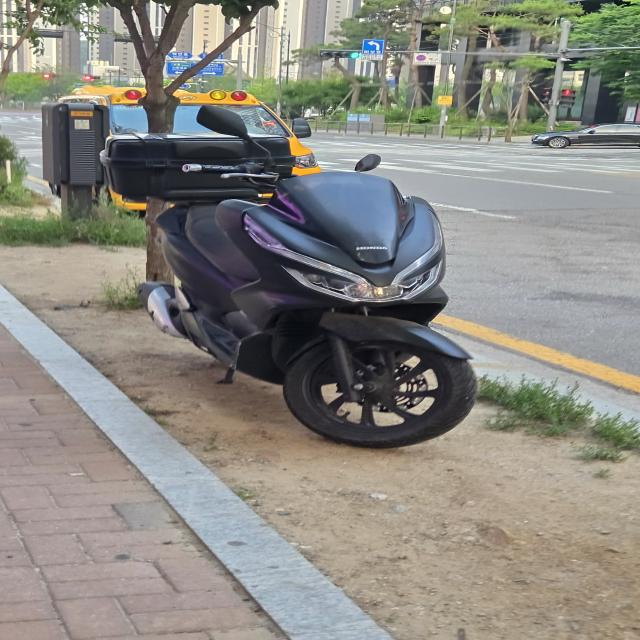car: (99, 93, 521, 461)
